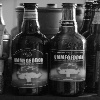beer: (12, 1, 49, 95)
